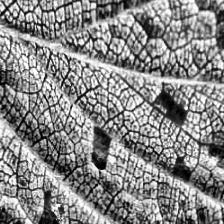Angular Leafspot: (0, 80, 224, 224)
